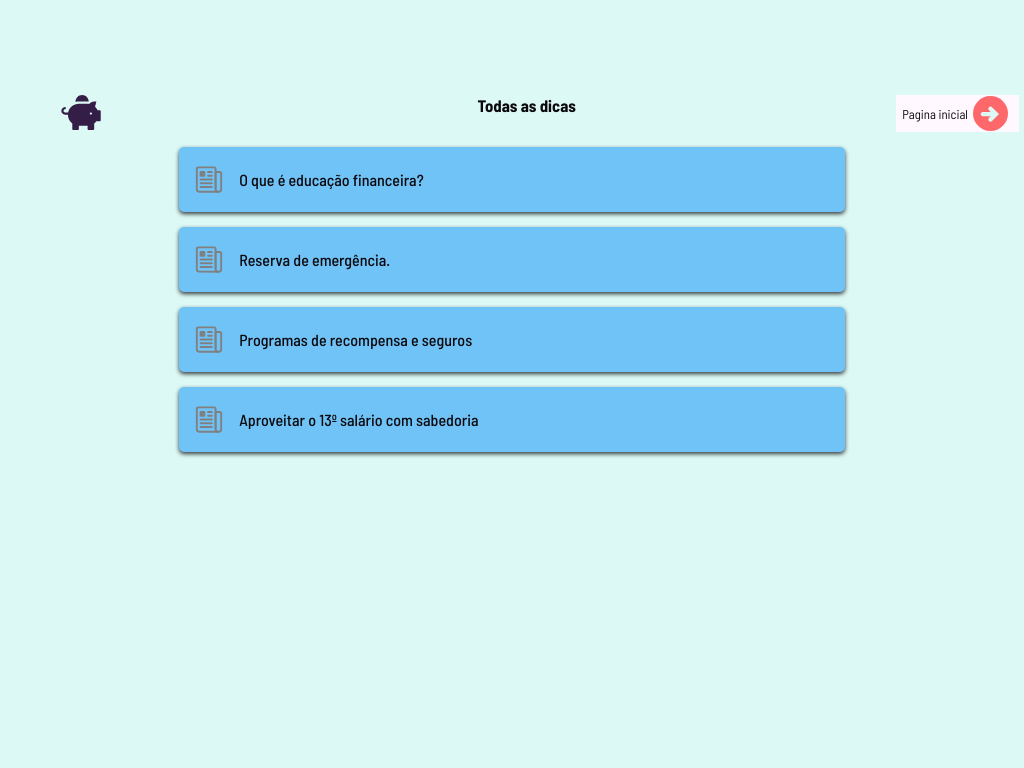
When everything is ok. › when the user clicks a button tipsTree it should render the article
This screenshot has width=1024, height=768.
Click the button with test id "tipsTree" at (356, 340), box [179, 307, 845, 372]
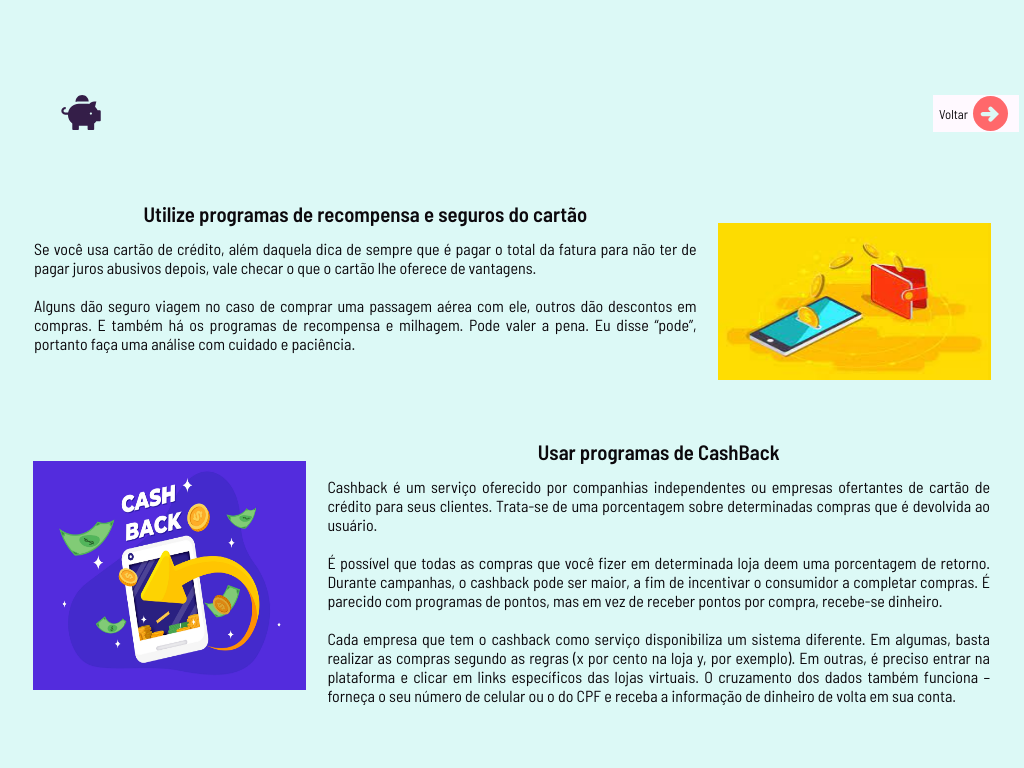
Expected: the heading "Utilize programas de recompensa e seguros do cartão" is shown, [144, 201, 587, 226]
